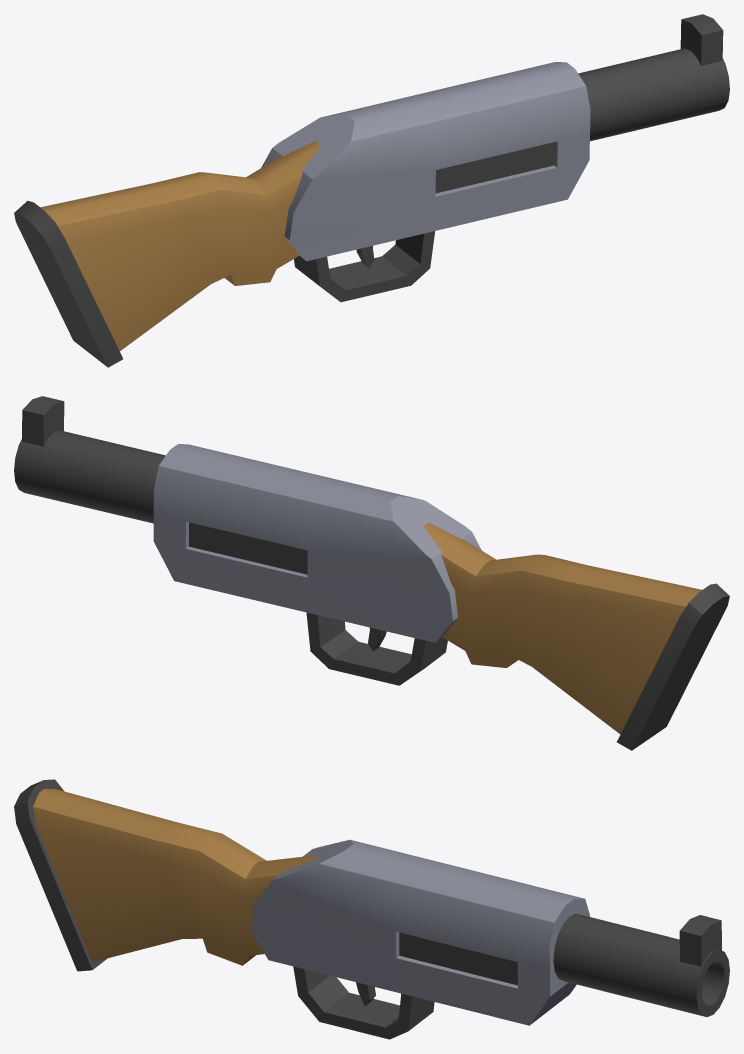
File: ShortCannon.glb
3 views of the same model, one above another, from view 1: azimuth 30°, elevation 25°; view 2: azimuth 150°, elevation 25°; view 3: azimuth 330°, elevation 25° (orthographic).
Visible parts, largest first — view 1: ShortCannon; view 2: ShortCannon; view 3: ShortCannon.
Boxes of the visible parts, x1,y1,x2,y2 form: ShortCannon: (14, 14, 729, 367); ShortCannon: (14, 396, 729, 750); ShortCannon: (14, 779, 729, 1039).
Bounding box in the file's own units: 0.7888 × 0.2055 × 0.0825.
